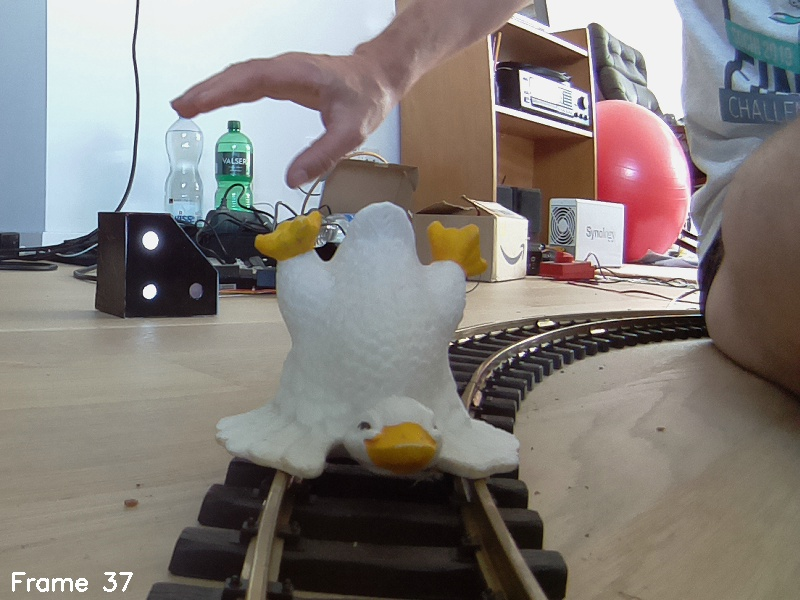Ente: (222, 207, 526, 484)
Fahrt: (94, 209, 220, 322)
